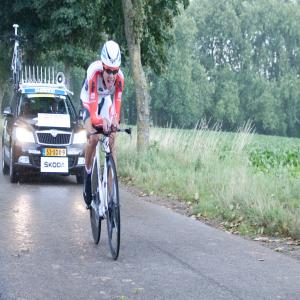Vehicle-registration-plate: (43, 149, 68, 159)
